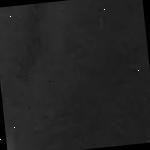colony: (0, 19, 13, 150)
